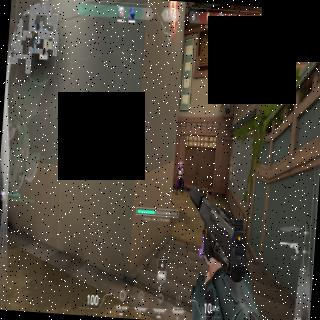ENEMY-HEAD: (179, 160, 182, 167)
